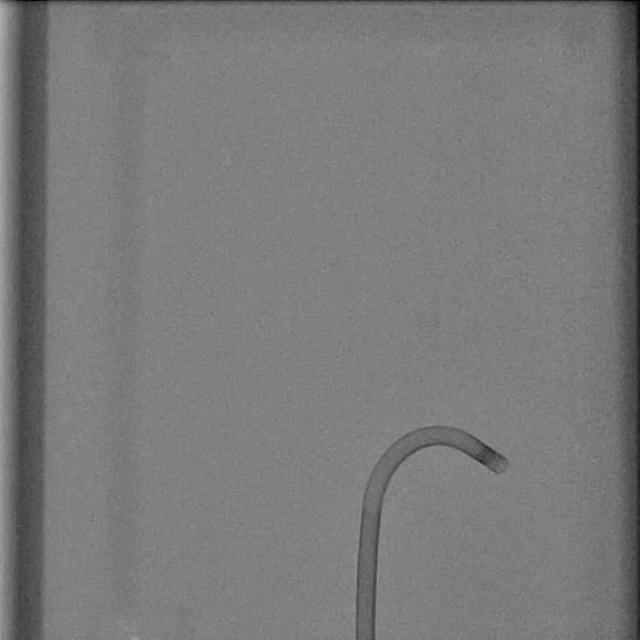bend: (362, 499, 381, 512)
entry: (354, 630, 375, 640)
marker: (478, 445, 496, 466)
tip: (494, 456, 507, 473)
